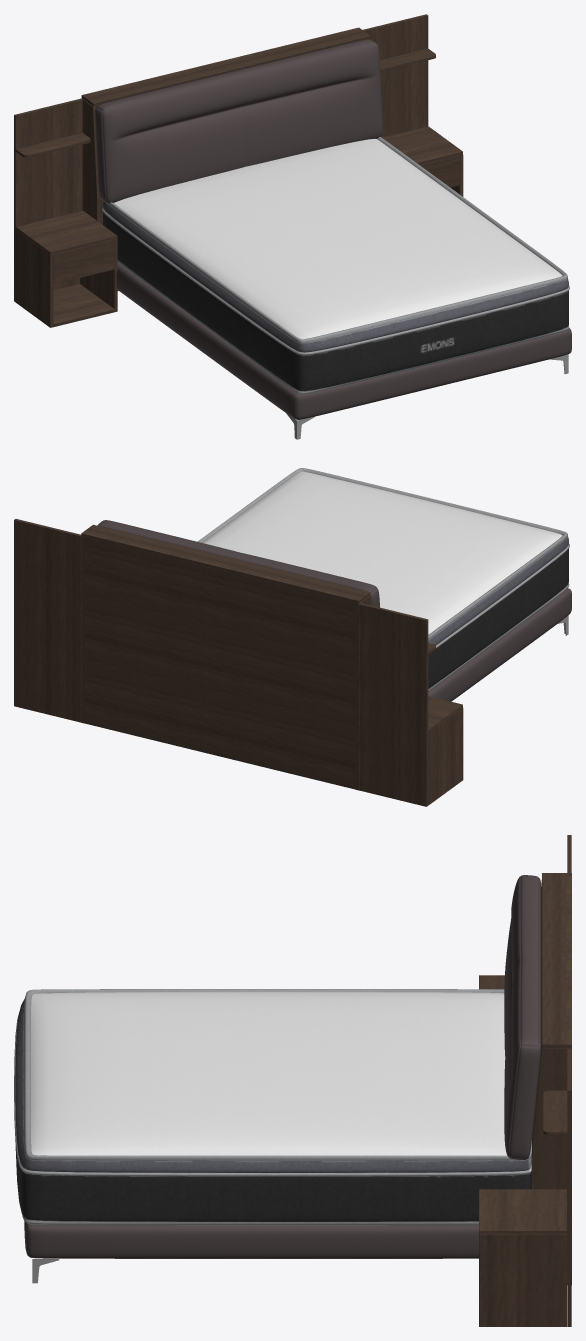
3 renders of one model, top to bottom at view 1: azimuth 30°, elevation 25°; view 2: azimuth 150°, elevation 25°; view 3: azimuth 270°, elevation 25°, orthographic. The views are drawn at different scales.
Parts seen in each view (by area): view 1: bed_15_01; view 2: bed_15_01; view 3: bed_15_01.
Part boxes in pixels (<box>): bed_15_01: <box>14,14,571,439</box>; bed_15_01: <box>14,468,571,806</box>; bed_15_01: <box>14,835,571,1326</box>.
Bounding box in the file's own units: 2.39 × 1.06 × 2.21.
1 material, 1 textured.
